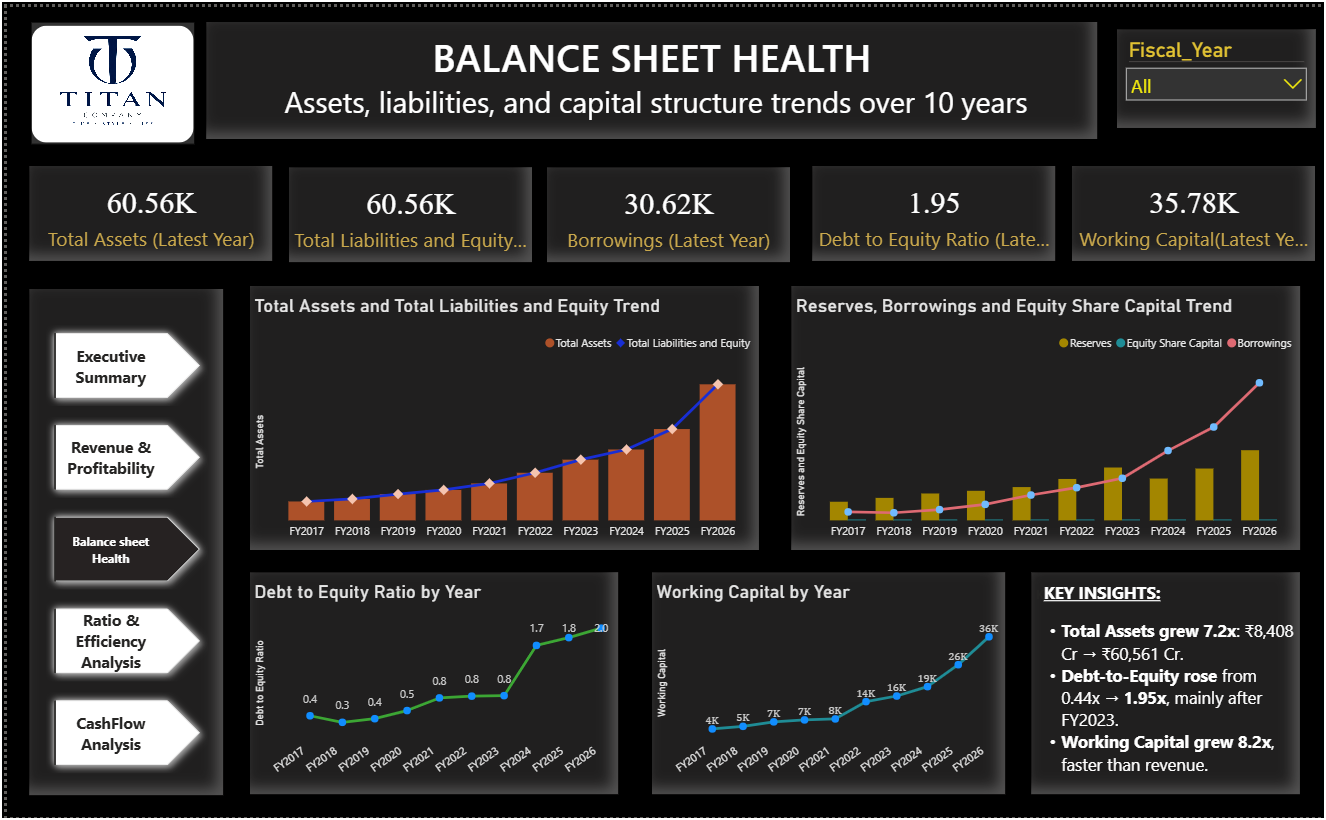

Layout of this report page (visuals, bound fields, positions):
{"tool":"powerbi","page":{"name":"Balance sheet Health","canvas":[1470,900],"ordinal":2},"visuals":[{"type":"textbox","box":[222,16,990,130],"z":0},{"type":"card","fields":{"Values":["_Latest_Year_Measures.Total Assets (Latest Year)"]},"box":[25.6,176.8,270,105],"z":1000},{"type":"card","fields":{"Values":["_Latest_Year_Measures.Total Liabilities and Equity (Latest Year)"]},"box":[314,179.1,270,105],"z":2000},{"type":"textbox","box":[25,312.5,215,562.5],"z":2000,"group":"g1"},{"type":"card","fields":{"Values":["_Latest_Year_Measures.Borrowings (Latest Year)"]},"box":[600.1,179.1,270,105],"z":3000},{"type":"card","fields":{"Values":["_Latest_Year_Measures.Debt to Equity Ratio (Latest Year)"]},"box":[895.5,176.8,270,105],"z":4000},{"type":"card","fields":{"Values":["_Latest_Year_Measures.Working Capital(Latest Year)"]},"box":[1183.9,176.8,270,105],"z":5000},{"type":"lineClusteredColumnComboChart","title":"Total Assets and Total Liabilities and Equity  Trend","fields":{"Category":["Dim_Fiscal_year.Fiscal_Year"],"Y":["_Measures-3.Total Assets"],"Y2":["_Measures-3.Total Liabilities and Equity"]},"box":[269.8,309.4,565.2,293.1],"z":6000},{"type":"lineClusteredColumnComboChart","title":"Reserves, Borrowings and Equity Share Capital Trend","fields":{"Category":["Dim_Fiscal_year.Fiscal_Year"],"Y":["_Measures-3.Reserves","_Measures-3.Equity Share Capital"],"Y2":["_Measures-3.Borrowings"]},"box":[872.2,309.4,565.2,293.1],"z":7000},{"type":"lineChart","title":"Debt to Equity Ratio by Year","fields":{"Category":["Dim_Fiscal_year.Fiscal_Year"],"Y":["_Measures-3.Debt to Equity Ratio"]},"box":[270.4,628.4,409.2,246.6],"z":8000},{"type":"lineChart","title":"Working Capital by Year","fields":{"Category":["Dim_Fiscal_year.Fiscal_Year"],"Y":["_Measures-3.Working Capital"]},"box":[716.1,628.4,392.8,246.6],"z":9000},{"type":"slicer","fields":{"Values":["Dim_Fiscal_year.Fiscal_Year"]},"box":[1232.8,25.6,221,109.3],"z":10000},{"type":"pageNavigator","box":[42.5,352.5,180,500],"z":10002,"group":"g1"},{"type":"group","id":"g1","title":"Group 1","box":[25,312.5,215,562.5],"z":11000},{"type":"image","box":[26,16,182,136],"z":11001},{"type":"textbox","box":[1138.1,628.4,297.8,246.6],"z":11002}]}

Visuals, with their boxes in screenshot pixels (x1, y1, x2, y2), scaled from the page's 1470x900 canvas onto the 1326x820 screenshot:
textbox: bbox=(200, 15, 1093, 133)
card - _Latest_Year_Measures.Total Assets (Latest Year): bbox=(23, 161, 267, 257)
card - _Latest_Year_Measures.Total Liabilities and Equity (Latest Year): bbox=(283, 163, 527, 259)
textbox: bbox=(23, 285, 216, 797)
card - _Latest_Year_Measures.Borrowings (Latest Year): bbox=(541, 163, 785, 259)
card - _Latest_Year_Measures.Debt to Equity Ratio (Latest Year): bbox=(808, 161, 1051, 257)
card - _Latest_Year_Measures.Working Capital(Latest Year): bbox=(1068, 161, 1311, 257)
"Total Assets and Total Liabilities and Equity  Trend" lineClusteredColumnComboChart: bbox=(243, 282, 753, 549)
"Reserves, Borrowings and Equity Share Capital Trend" lineClusteredColumnComboChart: bbox=(787, 282, 1297, 549)
"Debt to Equity Ratio by Year" lineChart: bbox=(244, 573, 613, 797)
"Working Capital by Year" lineChart: bbox=(646, 573, 1000, 797)
slicer - Dim_Fiscal_year.Fiscal_Year: bbox=(1112, 23, 1311, 123)
pageNavigator: bbox=(38, 321, 201, 777)
"Group 1" group: bbox=(23, 285, 216, 797)
image: bbox=(23, 15, 188, 138)
textbox: bbox=(1027, 573, 1295, 797)
